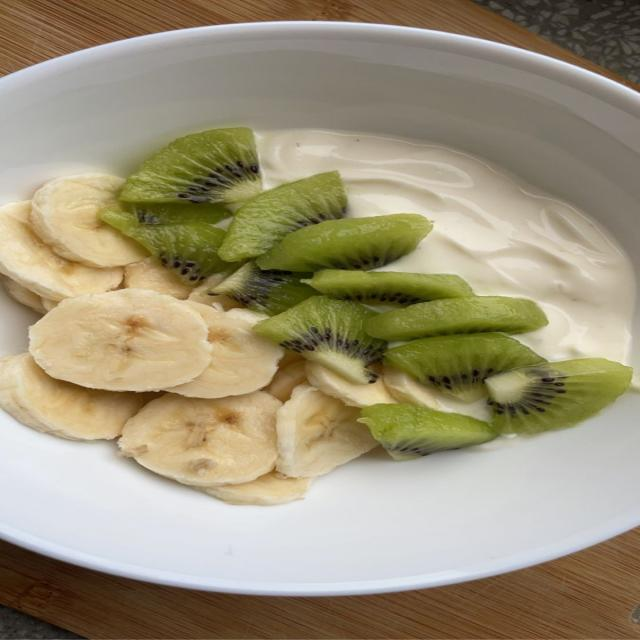banana slice: (30, 290, 211, 391), (119, 392, 281, 486), (0, 354, 147, 441), (0, 202, 123, 300), (169, 301, 283, 398), (31, 173, 147, 267), (276, 384, 377, 477), (306, 361, 395, 407), (202, 472, 314, 506), (124, 257, 193, 299), (382, 366, 439, 408), (189, 272, 242, 310), (0, 276, 47, 314), (265, 360, 307, 402), (229, 308, 268, 326), (280, 349, 306, 367), (41, 297, 59, 311)
kiwi: (253, 295, 386, 384), (219, 171, 347, 261), (384, 333, 545, 402), (485, 358, 631, 434), (120, 127, 261, 205), (257, 214, 431, 271), (103, 210, 230, 285), (365, 296, 547, 341), (358, 404, 497, 460), (302, 269, 474, 306), (212, 262, 317, 315)
